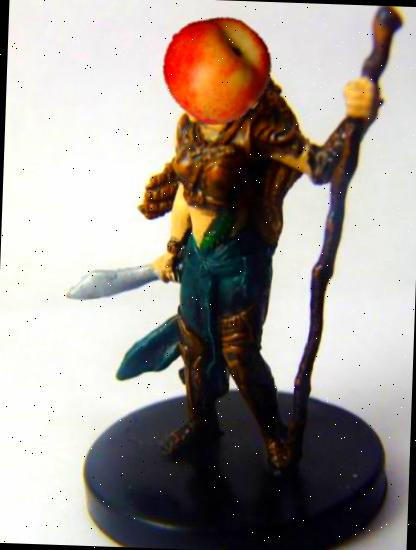Nectarine: (160, 11, 274, 125)
